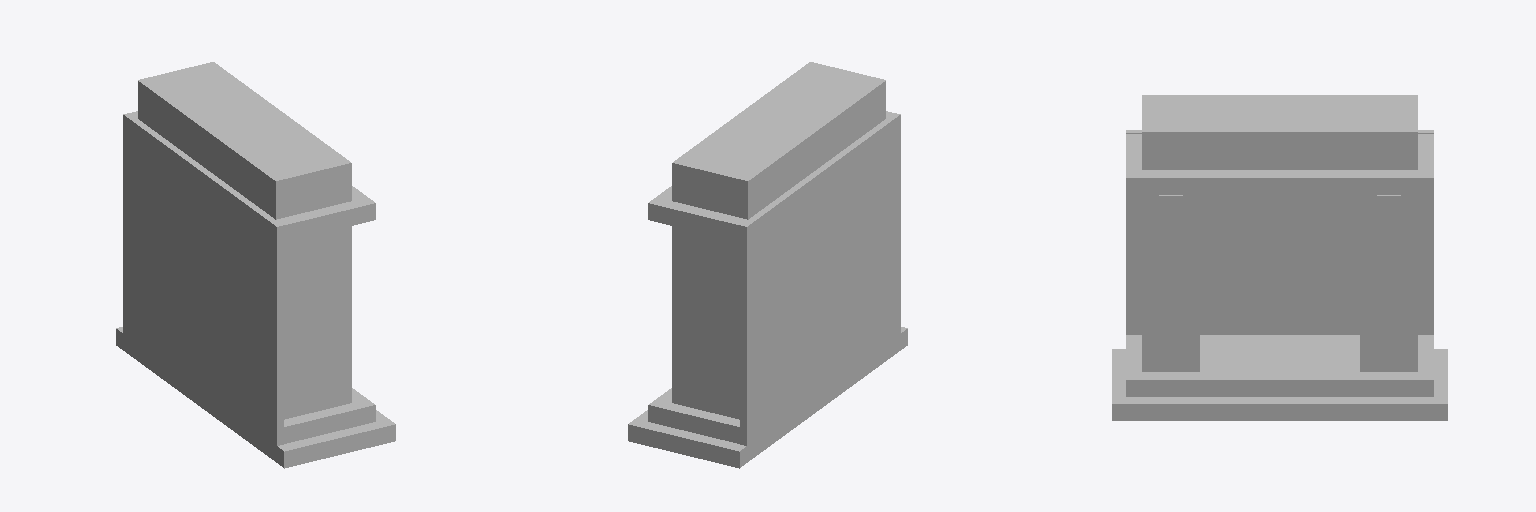
Rendered from Fireplace.obj.
The picture shows the model from 3 angles: view 1: azimuth 30°, elevation 25°; view 2: azimuth 150°, elevation 25°; view 3: azimuth 270°, elevation 25°; orthographic projection.
Bounding box in the file's own units: 0.5505 × 1.29 × 1.44.